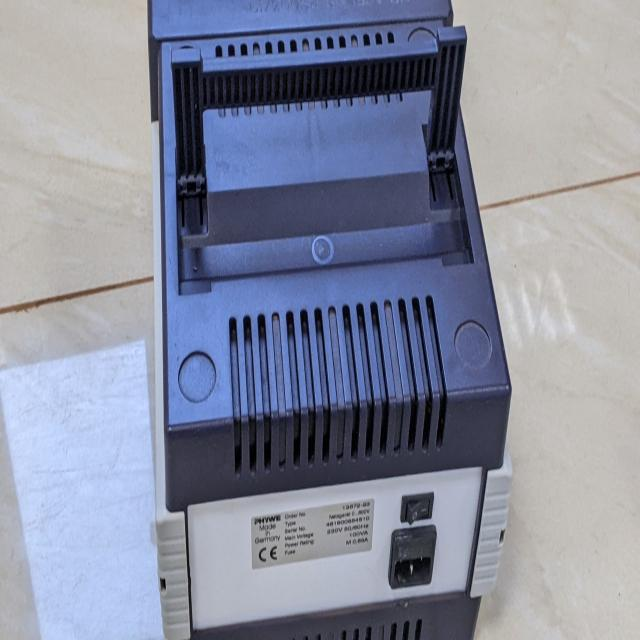Netzgerat Universal Power Supply: (140, 0, 550, 640)
